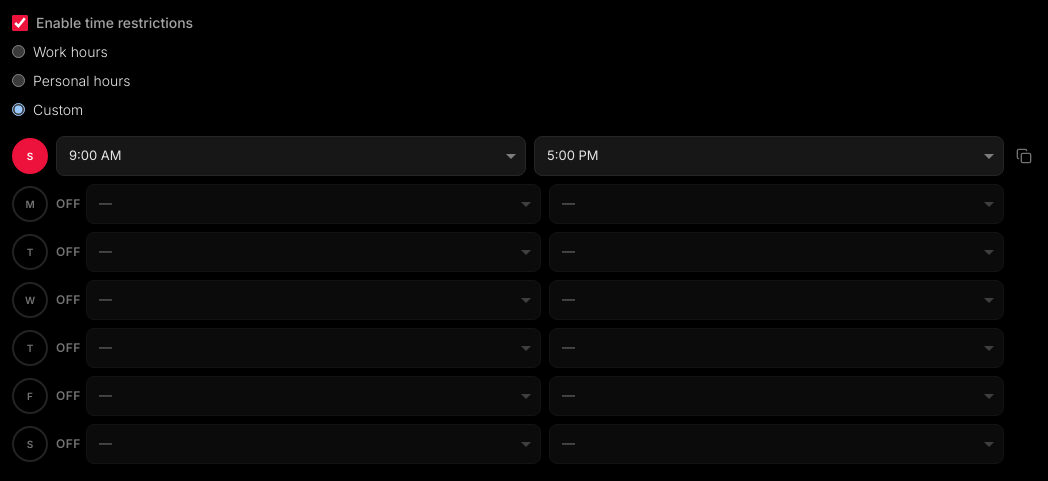
it: RestrictionProfileEditor — copy/paste times › clicking the cancel-copy indicator returns the source day to a copy button
Click the button with test id "restriction-copy-btn-0". click: {"x": 1024, "y": 156}
box: [1014,146,1034,166]
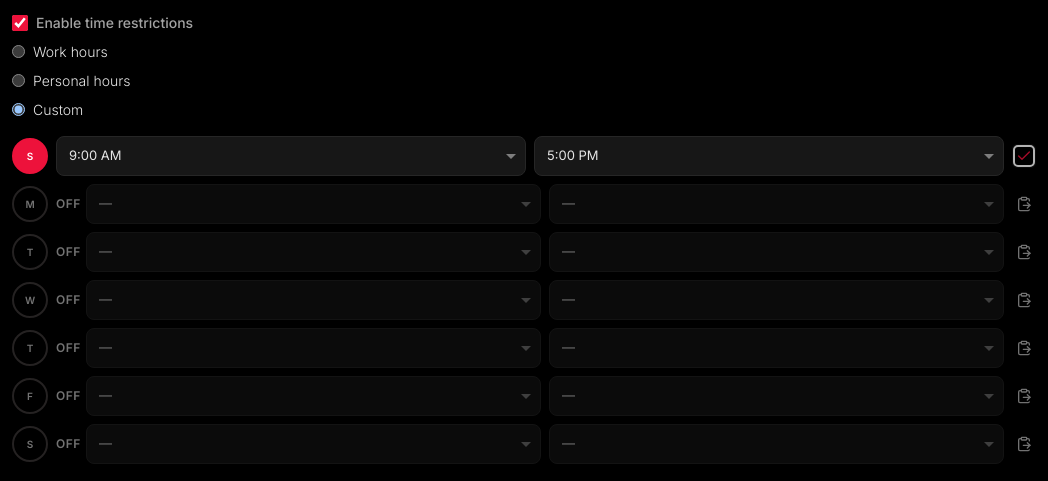
Click the button with test id "restriction-copy-active-0". click: {"x": 1024, "y": 156}
box: [1014,146,1034,166]
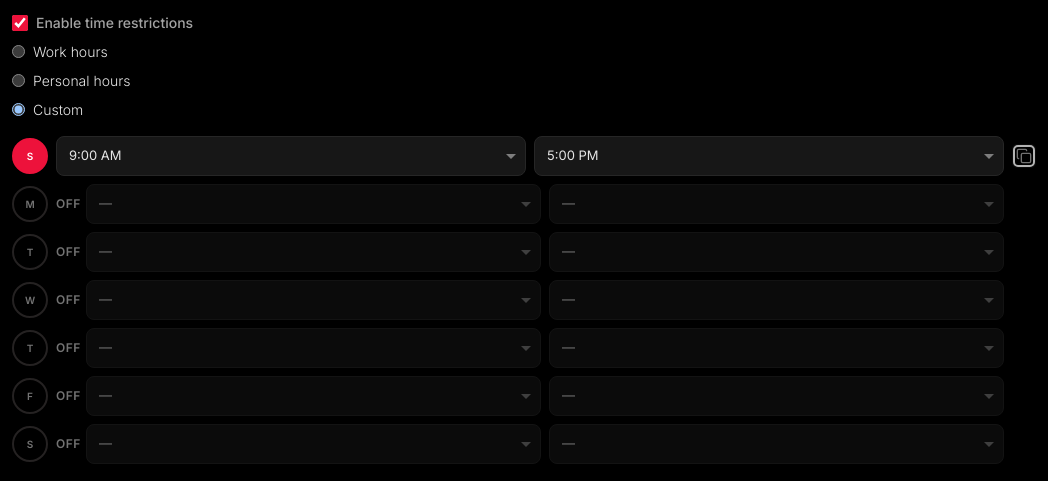
Result: the button with test id "restriction-copy-btn-0" is shown at [1014,146,1034,166]
Result: the button with test id "restriction-paste-btn-1" is gone
